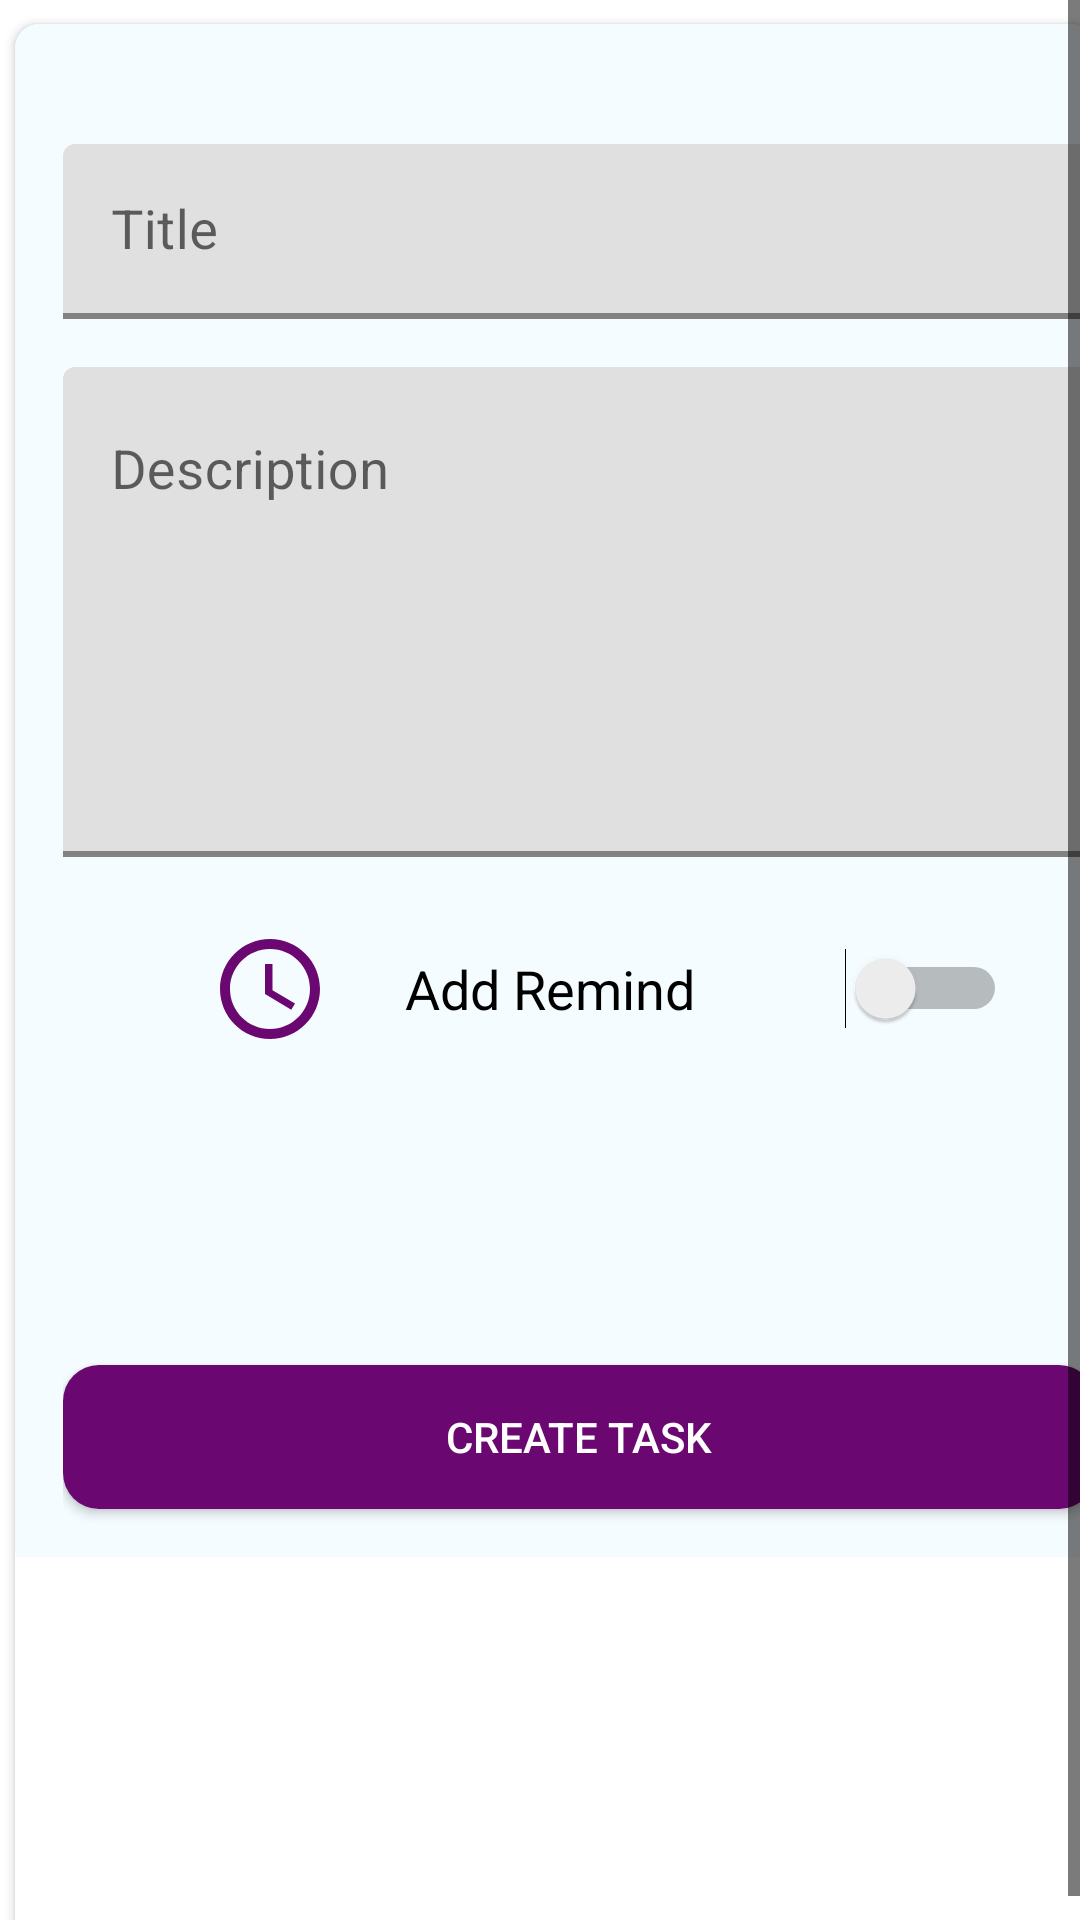

Screen size 1080x1920. Icon name, then its box in pixels as (x1=x1, y1=y1, x2=x2, y2=y2):
access time: (x1=220, y1=939, x2=320, y2=1039)
